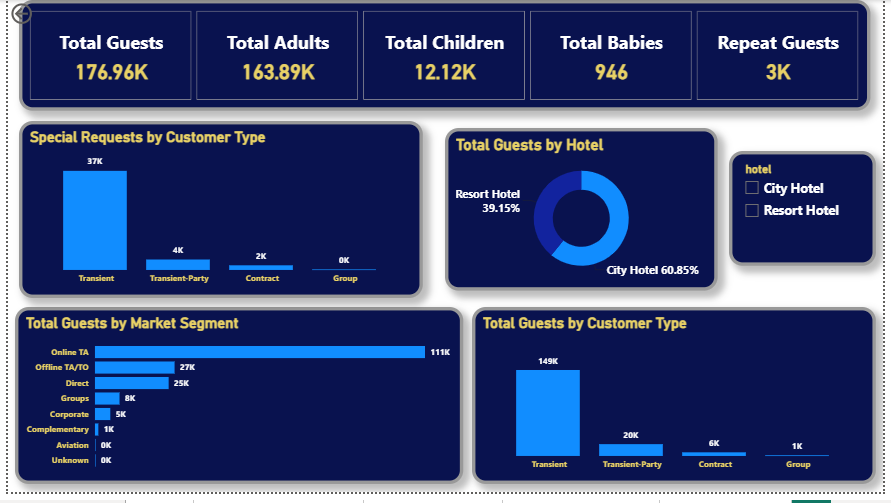

Layout of this report page (visuals, bound fields, positions):
{"tool":"powerbi","page":{"name":"Customer & Segment","canvas":[1280,720],"ordinal":3},"visuals":[{"type":"cardVisual","fields":{"Data":["Sum(HotelBookings_Clean.total_guests)","Sum(HotelBookings_Clean.adults)","Sum(HotelBookings_Clean.children)","Sum(HotelBookings_Clean.babies)","Measures (2).Repeat Guests"]},"box":[16.4,0,1245.8,162.2],"z":0},{"type":"clusteredBarChart","title":"Total Guests by Market Segment","fields":{"Category":["HotelBookings_Clean.market_segment"],"Y":["Sum(HotelBookings_Clean.total_guests)"]},"box":[10.4,449.5,656.4,259],"z":1000},{"type":"actionButton","box":[0,0,100,40],"z":2000},{"type":"clusteredColumnChart","title":"Total Guests by Customer Type","fields":{"Category":["HotelBookings_Clean.customer_type"],"Y":["Sum(HotelBookings_Clean.total_guests)"]},"box":[678.7,449.5,590.9,259],"z":3000},{"type":"clusteredColumnChart","title":"Special Requests by Customer Type","fields":{"Category":["HotelBookings_Clean.customer_type"],"Y":["Measures (2).Bookings with Special Requests"]},"box":[16.4,177.1,590.9,259],"z":4000},{"type":"donutChart","title":"Total Guests by Hotel","fields":{"Category":["HotelBookings_Clean.hotel"],"Y":["Measures (2).Total Guests"]},"box":[640,187.5,398.9,238.1],"z":5000},{"type":"slicer","title":"Average ADR by Hotel","fields":{"Values":["HotelBookings_Clean.hotel"]},"box":[1055.1,221,215.1,168.3],"z":6000}]}

Visuals, with their boxes in screenshot pixels (x1, y1, x2, y2), scaled from the page's 1280x720 canvas onto the 891x503 screenshot:
cardVisual - Sum(HotelBookings_Clean.total_guests) x Sum(HotelBookings_Clean.adults): (x1=11, y1=0, x2=879, y2=113)
"Total Guests by Market Segment" clusteredBarChart: (x1=7, y1=314, x2=464, y2=495)
actionButton: (x1=0, y1=0, x2=70, y2=28)
"Total Guests by Customer Type" clusteredColumnChart: (x1=472, y1=314, x2=884, y2=495)
"Special Requests by Customer Type" clusteredColumnChart: (x1=11, y1=124, x2=423, y2=305)
"Total Guests by Hotel" donutChart: (x1=446, y1=131, x2=723, y2=297)
"Average ADR by Hotel" slicer: (x1=734, y1=154, x2=884, y2=272)
